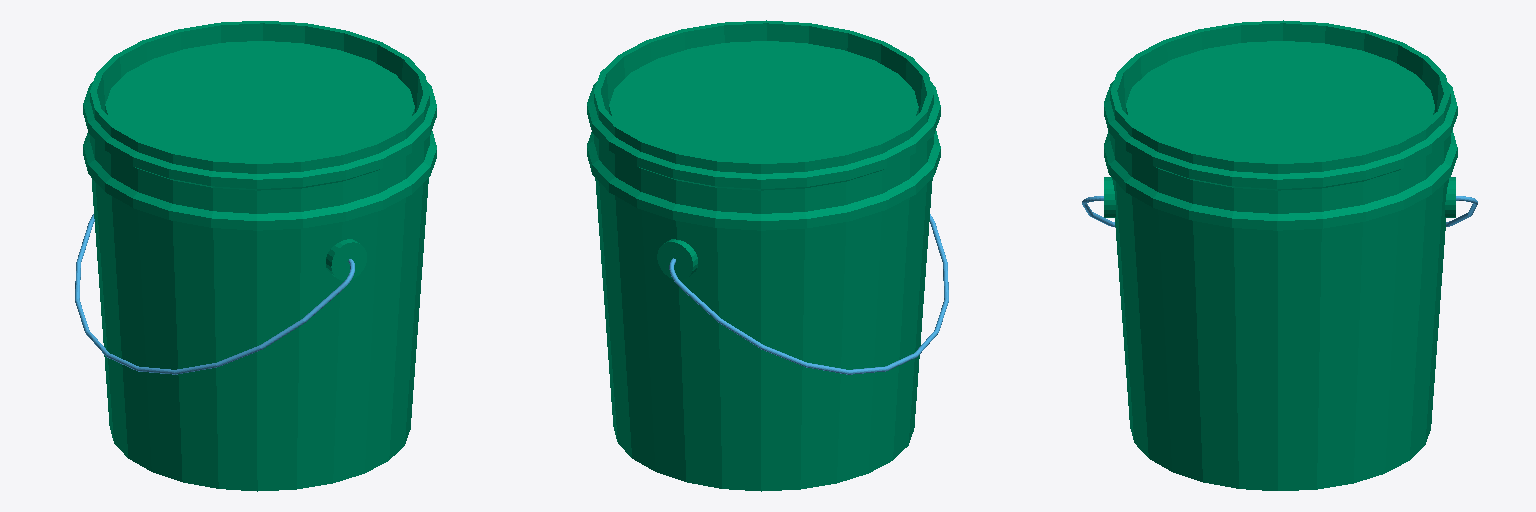
URDF robot description (partnet_9347f2ac-346f-426f-ae8f-51210650d510-0):
<?xml version="1.0" ?>
<robot name="partnet_9347f2ac-346f-426f-ae8f-51210650d510-0">
	<link name="base"/>
	<link name="link_0">
		<visual name="handle-1">
			<origin xyz="0 -0.24419711386477036 0.004032950650434947"/>
			<geometry>
				<mesh filename="textured_objs/original-1.obj"/>
			</geometry>
		</visual>
		<collision>
			<origin xyz="0 -0.24419711386477036 0.004032950650434947"/>
			<geometry>
				<mesh filename="textured_objs/original-1.obj"/>
			</geometry>
		</collision>
	</link>
	<joint name="joint_0" type="revolute">
		<origin xyz="0 0.24419711386477036 -0.004032950650434947"/>
		<axis xyz="-1 0 0"/>
		<child link="link_0"/>
		<parent link="link_1"/>
		<limit lower="-0.10681415022205297" upper="4.580442088933919"/>
	</joint>
	<link name="link_1">
		<visual name="base_body-2">
			<origin xyz="0 0 0"/>
			<geometry>
				<mesh filename="textured_objs/original-4.obj"/>
			</geometry>
		</visual>
		<visual name="base_body-2">
			<origin xyz="0 0 0"/>
			<geometry>
				<mesh filename="textured_objs/original-3.obj"/>
			</geometry>
		</visual>
		<visual name="base_body-2">
			<origin xyz="0 0 0"/>
			<geometry>
				<mesh filename="textured_objs/original-5.obj"/>
			</geometry>
		</visual>
		<collision>
			<origin xyz="0 0 0"/>
			<geometry>
				<mesh filename="textured_objs/original-4.obj"/>
			</geometry>
		</collision>
		<collision>
			<origin xyz="0 0 0"/>
			<geometry>
				<mesh filename="textured_objs/original-3.obj"/>
			</geometry>
		</collision>
		<collision>
			<origin xyz="0 0 0"/>
			<geometry>
				<mesh filename="textured_objs/original-5.obj"/>
			</geometry>
		</collision>
	</link>
	<joint name="joint_1" type="fixed">
		<origin rpy="1.570796326794897 0 -1.570796326794897" xyz="0 0 0"/>
		<child link="link_1"/>
		<parent link="base"/>
	</joint>
</robot>

--- Render facts (derived) ---
Views: 3 orthographic renders of the robot side by side, from view 1: azimuth 30°, elevation 25°; view 2: azimuth 150°, elevation 25°; view 3: azimuth 270°, elevation 25°.
Robot: partnet_9347f2ac-346f-426f-ae8f-51210650d510-0 — 3 links, 2 joints (1 revolute, 1 fixed); root link base; default pose: all joints at 0.
Links seen in each view (by area): view 1: link_1, link_0; view 2: link_1, link_0; view 3: link_1, link_0.
Boxes of the visible links, x1,y1,x2,y2 form: link_1: (83,21,436,491); link_0: (75,214,354,374); link_1: (587,20,940,491); link_0: (669,214,948,374); link_1: (1104,20,1457,490); link_0: (1082,196,1477,227).
Size in the robot's own frame: 1.44 by 1.61 by 1.5 metres.
4 mesh visuals loaded from 4 distinct referenced files (4 OBJ).
